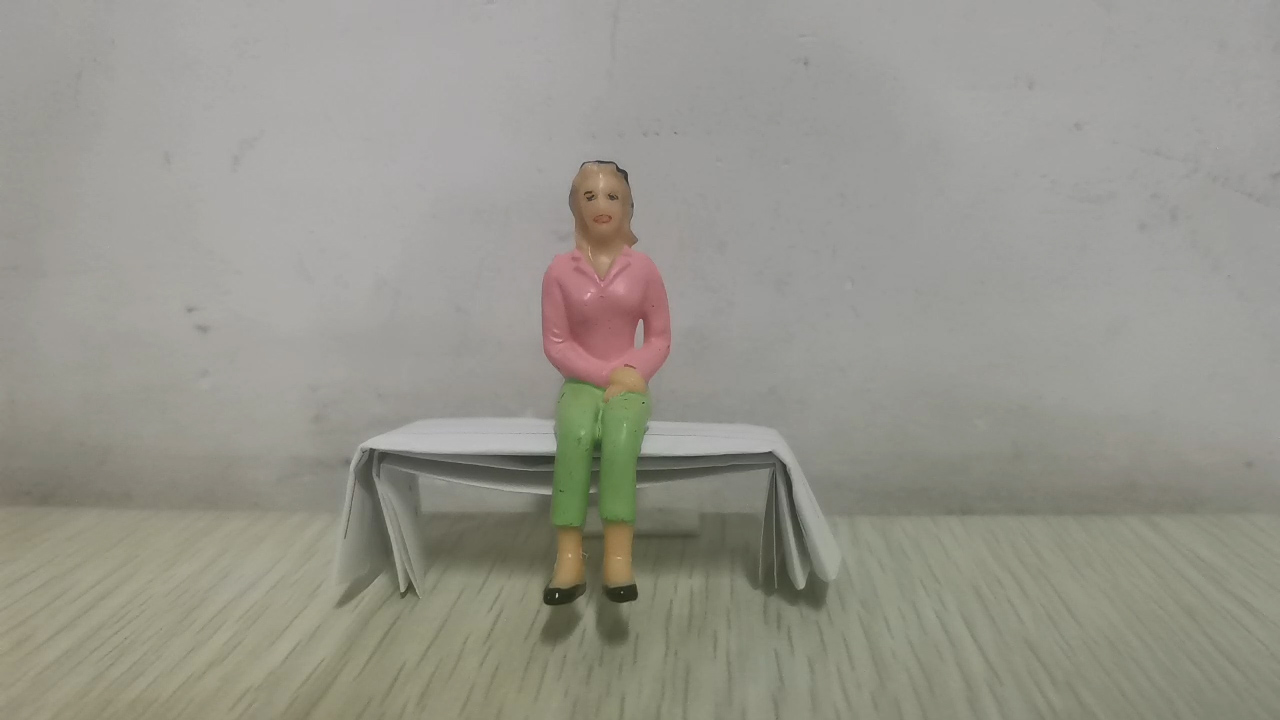person: (537, 157, 675, 610)
